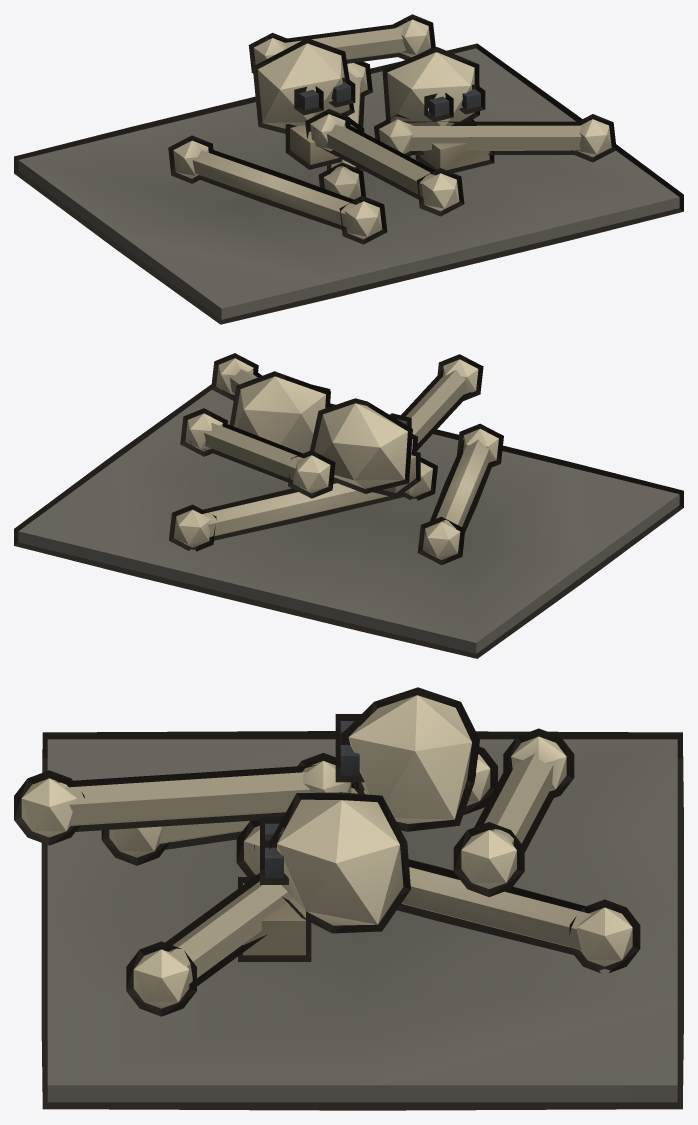
Rendered from pile_os.glb.
3 renders of one model, top to bottom at view 1: azimuth 30°, elevation 25°; view 2: azimuth 150°, elevation 25°; view 3: azimuth 270°, elevation 25°, orthographic. The views are drawn at different scales.
Parts seen in each view (by area): view 1: pile_os, pile_os_outline; view 2: pile_os, pile_os_outline; view 3: pile_os, pile_os_outline.
Boxes of the visible parts, x1,y1,x2,y2 form: pile_os: (18,19,679,319); pile_os_outline: (14,14,683,324); pile_os: (18,358,679,653); pile_os_outline: (14,353,683,658); pile_os: (21,695,677,1102); pile_os_outline: (14,687,683,1110).
Size of the model in its own units: 1.32 by 0.4061 by 1.06.
